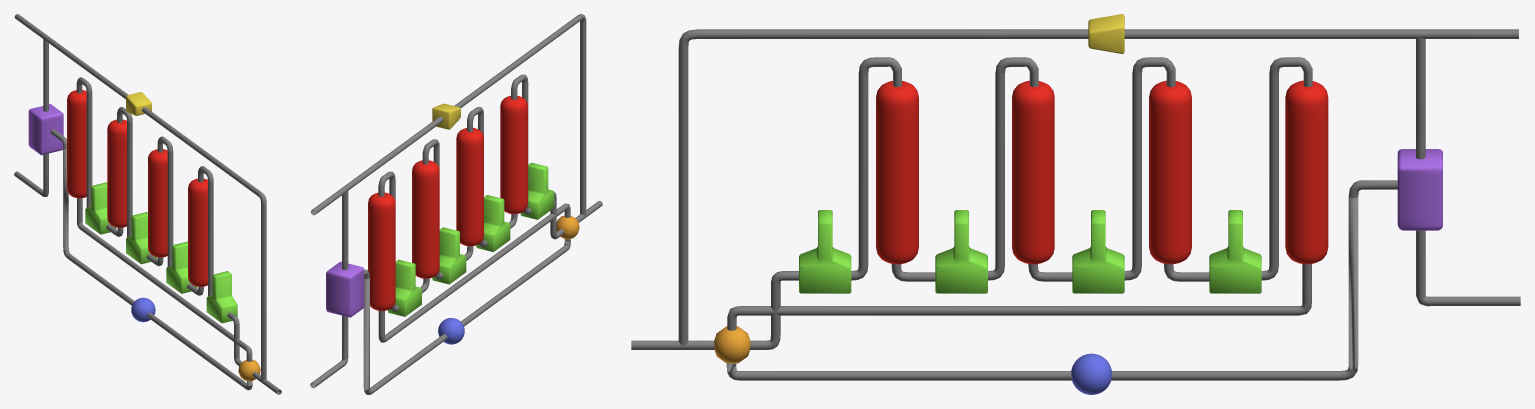
The picture shows the model from 3 angles, left to right: view 1: azimuth 30°, elevation 25°; view 2: azimuth 150°, elevation 25°; view 3: azimuth 270°, elevation 25°; orthographic projection. The views are drawn at different scales.
Parts seen in each view (by area): view 1: Cylinder.004, Cylinder, Cylinder.002, Cylinder.003, Cylinder.001, Cube.004, Cube.001, Cube.003, Cube.002, Cube, Cube.005, Sphere (+1 smaller); view 2: Cylinder.004, Cylinder.001, Cylinder.003, Cylinder, Cylinder.002, Cube.004, Cube.002, Cube.003, Cube.001, Cube, Cube.005, Sphere (+1 smaller); view 3: Cylinder.004, Cylinder.002, Cylinder, Cylinder.001, Cylinder.003, Cube.004, Cube.002, Cube.003, Cube, Cube.001, Sphere, Cube.005 (+1 smaller).
Part boxes in pixels (left/top/right/bottom): Cylinder.004: left=14, top=14, right=281, bottom=394; Cylinder: left=148, top=149, right=167, bottom=257; Cylinder.002: left=67, top=90, right=86, bottom=198; Cylinder.003: left=188, top=178, right=207, bottom=286; Cylinder.001: left=107, top=119, right=126, bottom=227; Cube.004: left=28, top=104, right=63, bottom=155; Cube.001: left=206, top=271, right=237, bottom=323; Cube.003: left=85, top=182, right=116, bottom=234; Cube.002: left=126, top=212, right=156, bottom=264; Cube: left=166, top=241, right=197, bottom=293; Cube.005: left=126, top=92, right=151, bottom=115; Sphere: left=131, top=297, right=155, bottom=322; Cylinder.004: left=310, top=14, right=602, bottom=394; Cylinder.001: left=412, top=160, right=439, bottom=278; Cylinder.003: left=500, top=95, right=527, bottom=214; Cylinder: left=456, top=128, right=483, bottom=246; Cylinder.002: left=368, top=192, right=395, bottom=310; Cube.004: left=326, top=261, right=364, bottom=317; Cube.002: left=432, top=227, right=466, bottom=284; Cube.003: left=388, top=259, right=421, bottom=316; Cube.001: left=520, top=162, right=554, bottom=219; Cube: left=476, top=195, right=510, bottom=252; Cube.005: left=432, top=103, right=460, bottom=129; Sphere: left=438, top=318, right=464, bottom=344; Cylinder.004: left=631, top=29, right=1520, bottom=380; Cylinder.002: left=1285, top=80, right=1328, bottom=264; Cylinder: left=1012, top=80, right=1054, bottom=264; Cylinder.001: left=1149, top=80, right=1191, bottom=264; Cylinder.003: left=876, top=81, right=918, bottom=264; Cube.004: left=1397, top=149, right=1442, bottom=230; Cube.002: left=1072, top=210, right=1124, bottom=293; Cube.003: left=1209, top=210, right=1261, bottom=293; Cube: left=935, top=210, right=987, bottom=293; Cube.001: left=799, top=210, right=851, bottom=293; Sphere: left=1071, top=353, right=1111, bottom=394; Cube.005: left=1088, top=14, right=1124, bottom=53.
Size of the model in its own units: 0.5512 by 5.01 by 10.81.
